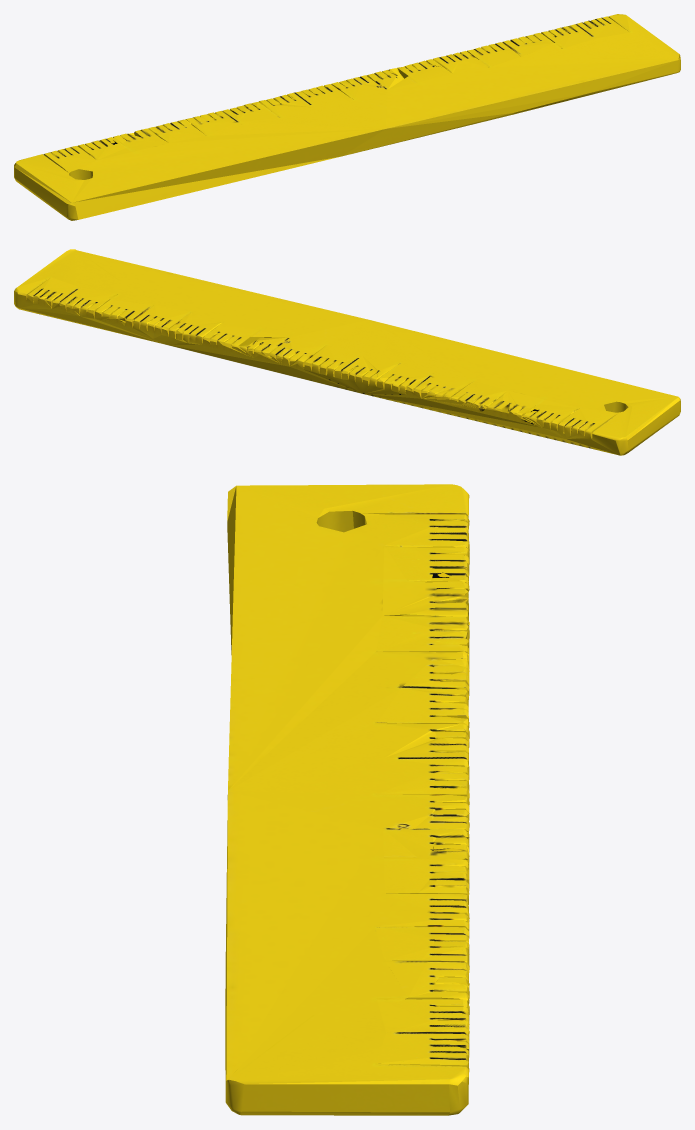
Rendered from yellow_ruler.glb.
3 renders of one model, top to bottom at view 1: azimuth 30°, elevation 25°; view 2: azimuth 150°, elevation 25°; view 3: azimuth 270°, elevation 25°, orthographic. The views are drawn at different scales.
Visible parts, largest first — view 1: output_unwrapped; view 2: output_unwrapped; view 3: output_unwrapped.
Part boxes in pixels (x1,y1,x2,y2): output_unwrapped: [14, 14, 680, 220]; output_unwrapped: [14, 249, 680, 455]; output_unwrapped: [225, 484, 469, 1115].
Bounding box in the file's own units: 1.9 × 0.0585 × 0.3282.
1 material, 1 textured.
